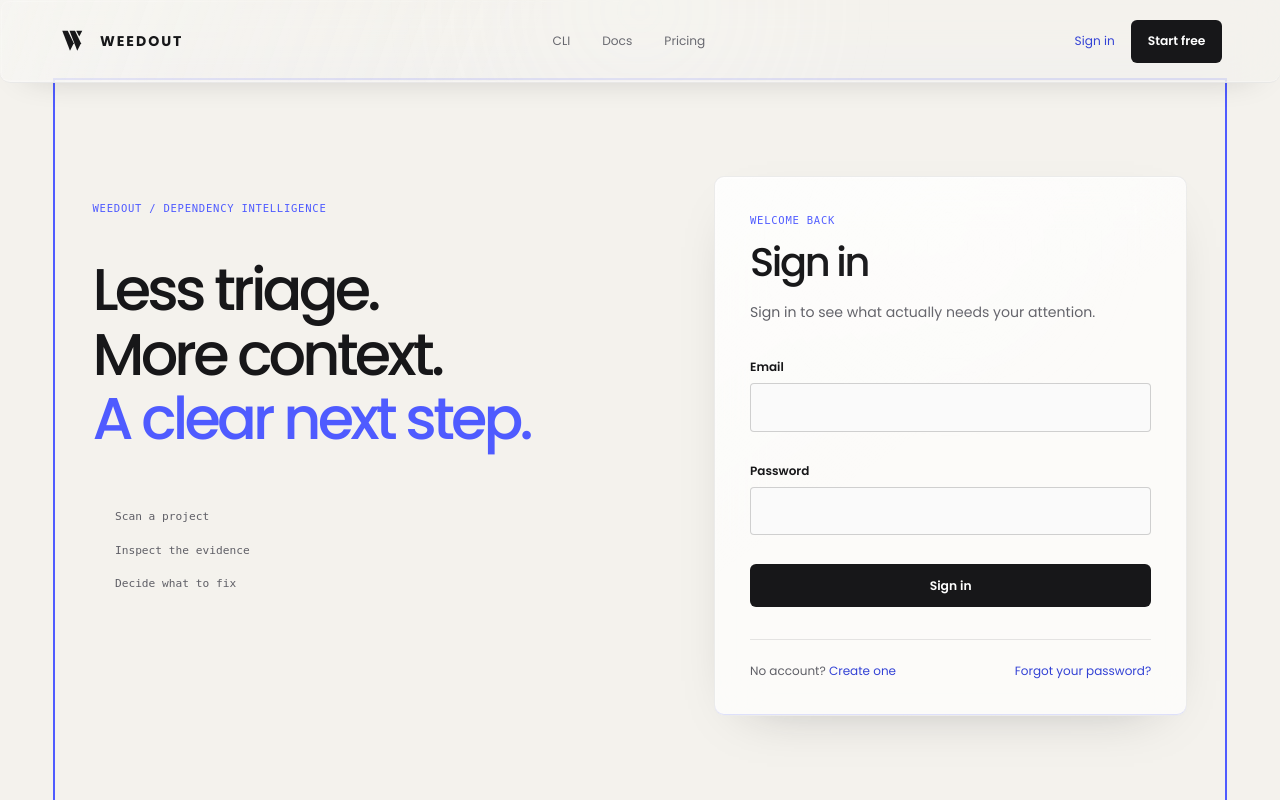
Test case: the sign-in page › reports a rejected password without clearing the email
This screenshot has width=1280, height=800.
Type "dev@example.com" into the field labelled "Email". click: x=951, y=408
box: [750,383,1151,432]
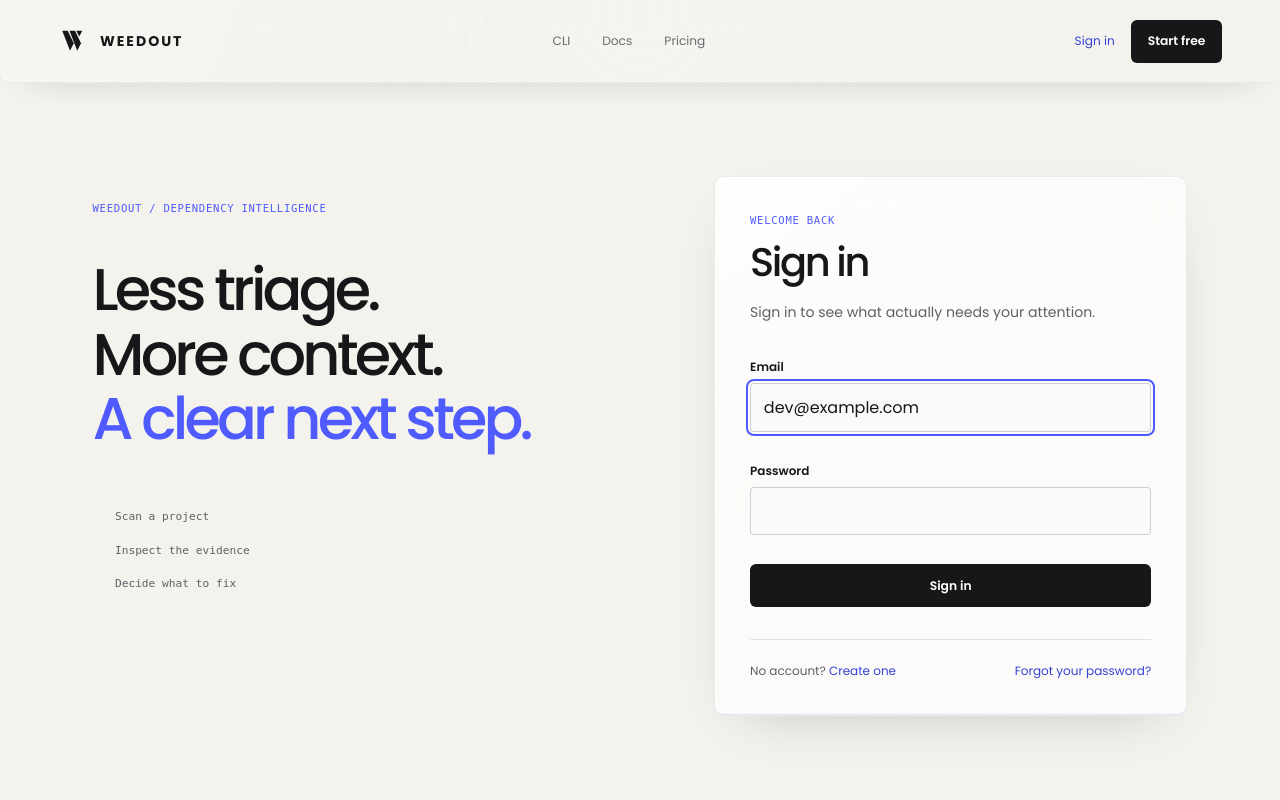
Type "wrong" into the password field labelled "Password". click: x=951, y=511
box: [750,487,1151,535]
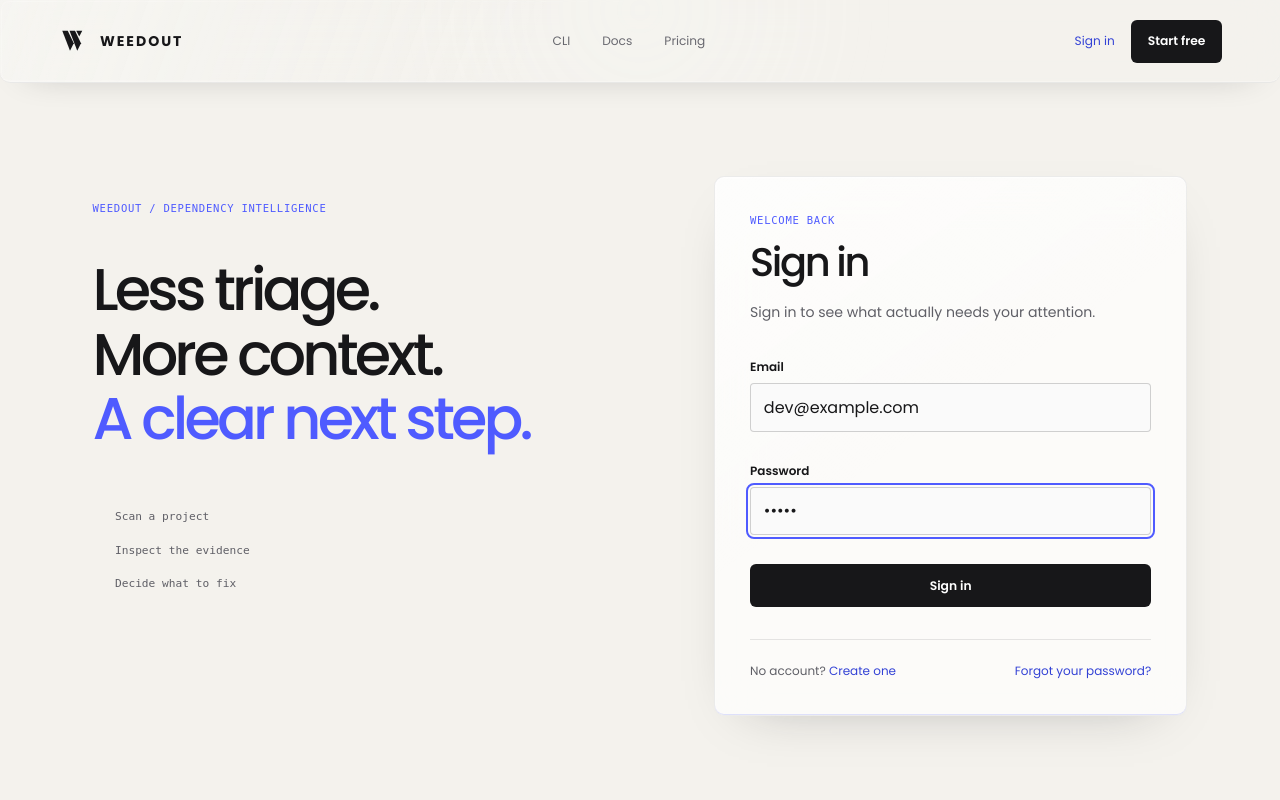
Click the button "Sign in". click: x=951, y=586
box: [750,564,1151,607]
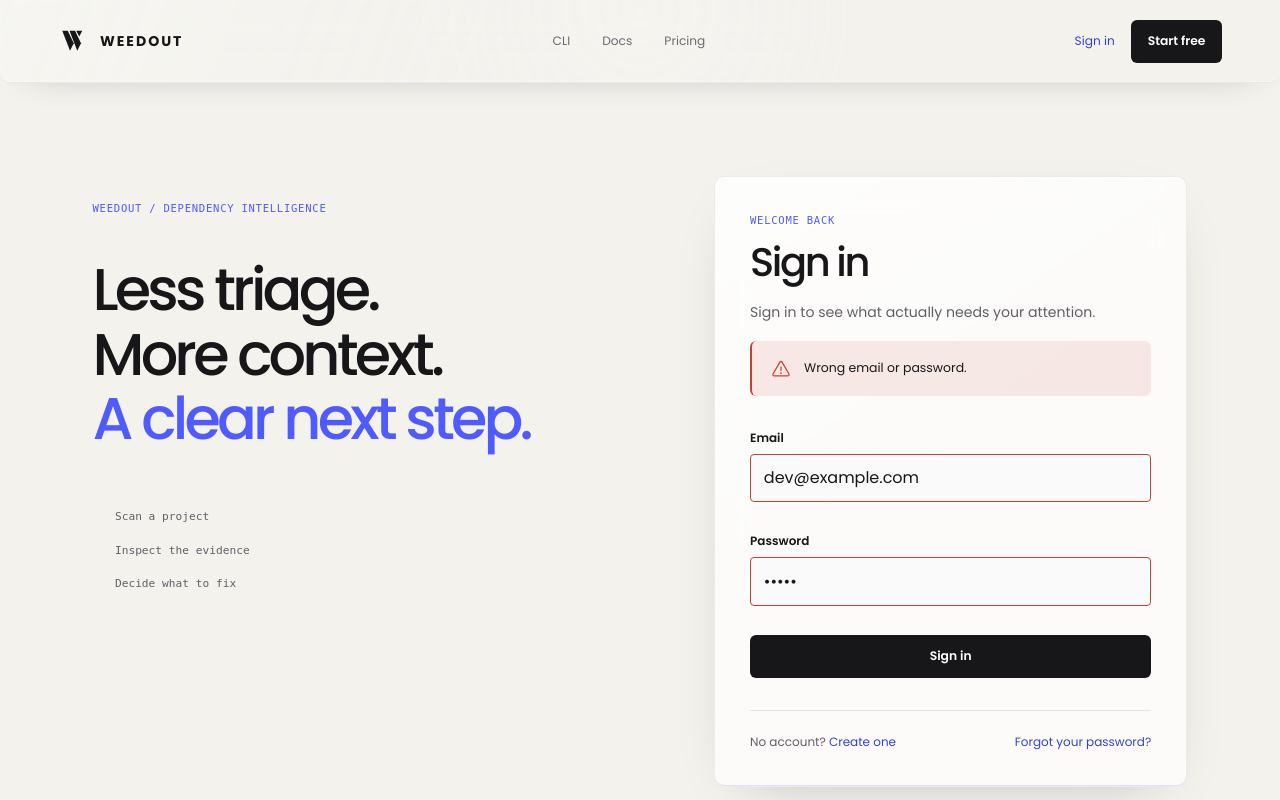
expect the message reads "Wrong email or password.": met, box [804,359,967,376]
